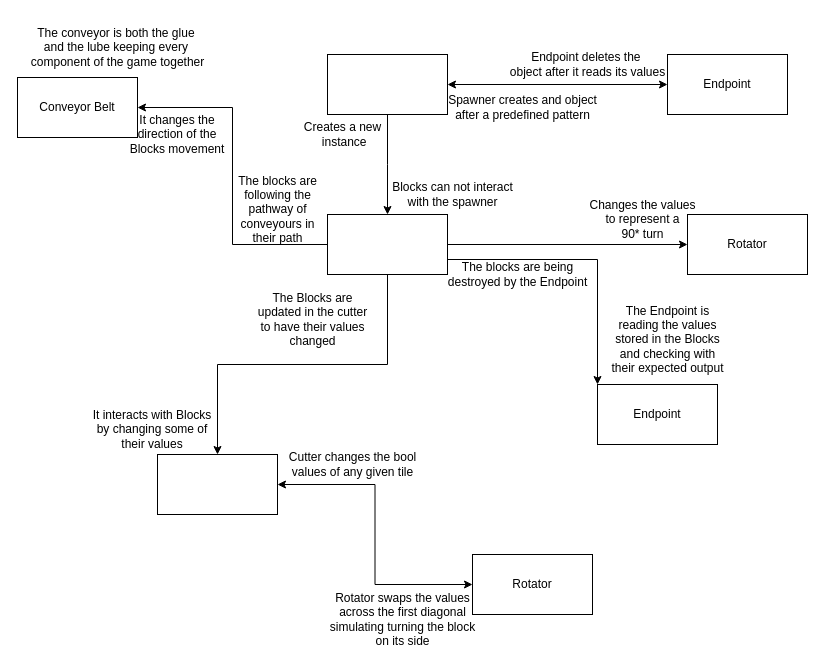
The diagram is 825 pixels wide and 671 high, and some of its shapes have lost their labels. Each missing label, with the centre of its shape:
Block 3x3: (x=387, y=244)
Cutter: (x=217, y=484)
Spawner: (x=387, y=84)
